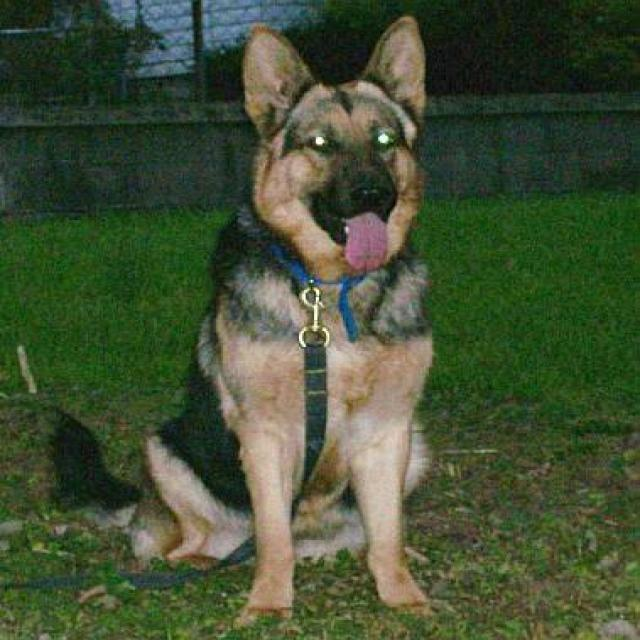dog: (137, 13, 437, 627)
